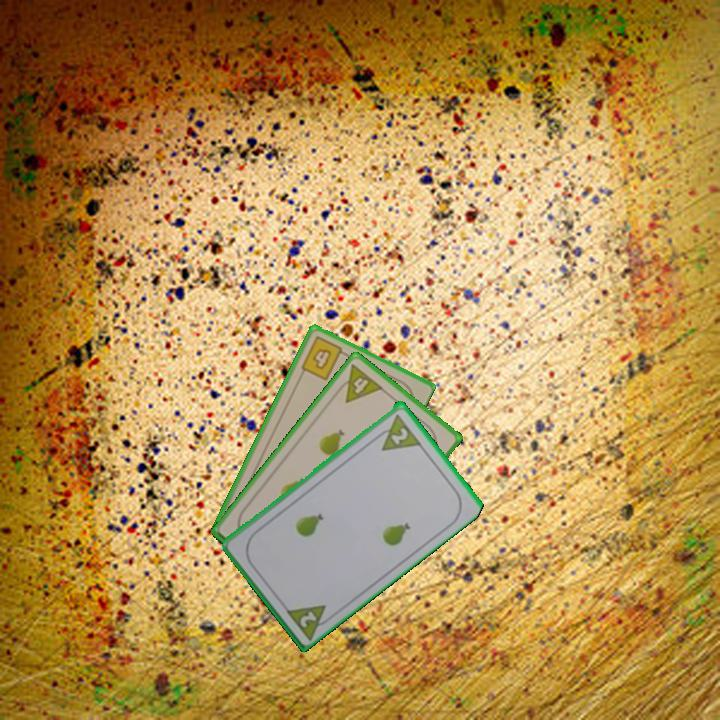2p: (387, 423, 411, 447), (296, 607, 320, 630)
4b: (297, 332, 350, 383)
4p: (331, 360, 386, 406)
